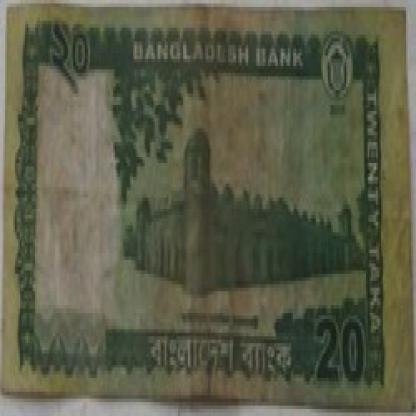Twenty: (45, 17, 101, 100), (313, 319, 371, 385)
